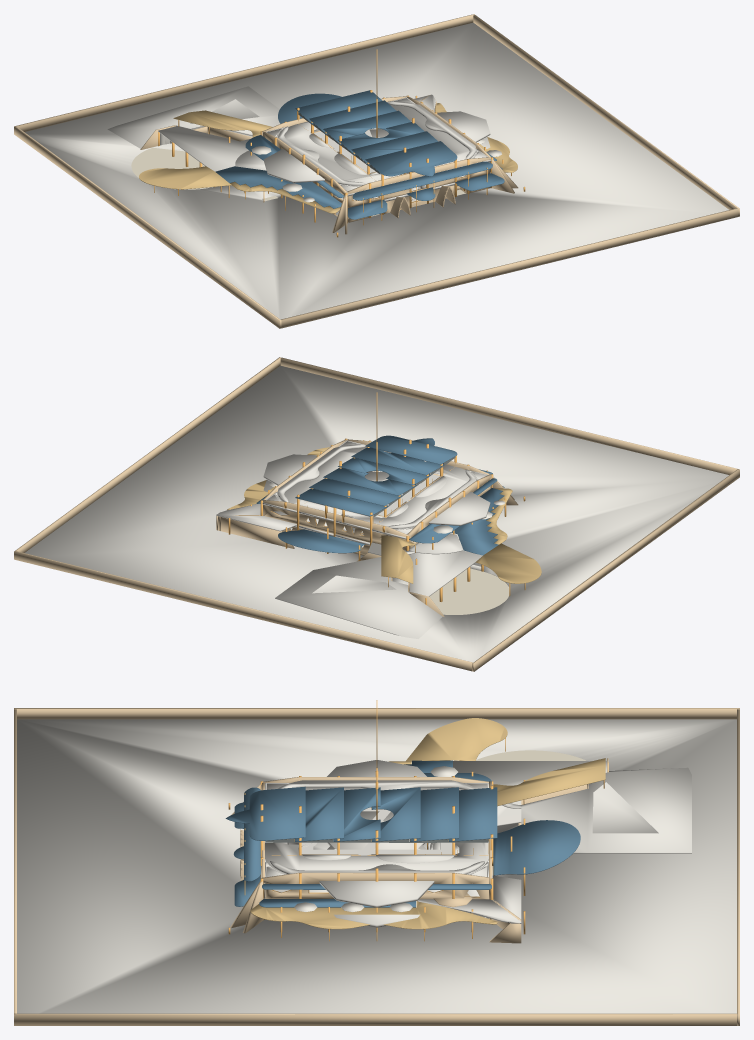
Rendered from palace.glb.
3 renders of one model, top to bottom at view 1: azimuth 30°, elevation 25°; view 2: azimuth 150°, elevation 25°; view 3: azimuth 270°, elevation 25°, orthographic. The views are drawn at different scales.
Parts seen in each view (by area): view 1: 600B_PALACE_HQ_Concrete, 600B_PALACE_HQ_RammedEarth, 600B_PALACE_HQ_PV, 600B_PALACE_HQ_Palapa, 600B_PALACE_HQ_Column, 600B_FLOOR, 600B_PALACE_HQ_Stone; view 2: 600B_PALACE_HQ_Concrete, 600B_PALACE_HQ_RammedEarth, 600B_PALACE_HQ_PV, 600B_PALACE_HQ_Palapa, 600B_FLOOR, 600B_PALACE_HQ_Column; view 3: 600B_PALACE_HQ_Concrete, 600B_PALACE_HQ_RammedEarth, 600B_PALACE_HQ_PV, 600B_PALACE_HQ_Palapa, 600B_PALACE_HQ_Column, 600B_FLOOR, 600B_PALACE_HQ_Stone, 600B_PALACE_HQ_Steel.
Boxes of the visible parts, x1=… form: 600B_PALACE_HQ_Concrete: x1=25, y1=22, x2=728, y2=319; 600B_PALACE_HQ_RammedEarth: x1=14, y1=14, x2=739, y2=328; 600B_PALACE_HQ_PV: x1=215, y1=90, x2=504, y2=219; 600B_PALACE_HQ_Palapa: x1=139, y1=103, x2=517, y2=213; 600B_PALACE_HQ_Column: x1=154, y1=49, x2=525, y2=237; 600B_FLOOR: x1=131, y1=147, x2=465, y2=216; 600B_PALACE_HQ_Stone: x1=160, y1=133, x2=501, y2=222; 600B_PALACE_HQ_Concrete: x1=25, y1=365, x2=728, y2=662; 600B_PALACE_HQ_RammedEarth: x1=14, y1=357, x2=739, y2=671; 600B_PALACE_HQ_PV: x1=256, y1=435, x2=504, y2=555; 600B_PALACE_HQ_Palapa: x1=227, y1=447, x2=541, y2=583; 600B_FLOOR: x1=429, y1=568, x2=509, y2=614; 600B_PALACE_HQ_Column: x1=228, y1=392, x2=525, y2=605; 600B_PALACE_HQ_Concrete: x1=17, y1=719, x2=736, y2=1013; 600B_PALACE_HQ_RammedEarth: x1=14, y1=708, x2=739, y2=1025; 600B_PALACE_HQ_PV: x1=225, y1=760, x2=580, y2=907; 600B_PALACE_HQ_Palapa: x1=250, y1=718, x2=605, y2=929; 600B_PALACE_HQ_Column: x1=228, y1=700, x2=608, y2=941; 600B_FLOOR: x1=476, y1=750, x2=586, y2=760; 600B_PALACE_HQ_Stone: x1=294, y1=766, x2=457, y2=912; 600B_PALACE_HQ_Steel: x1=265, y1=838, x2=488, y2=842.
Size of the model in its own units: 133 by 40.53 by 133.
